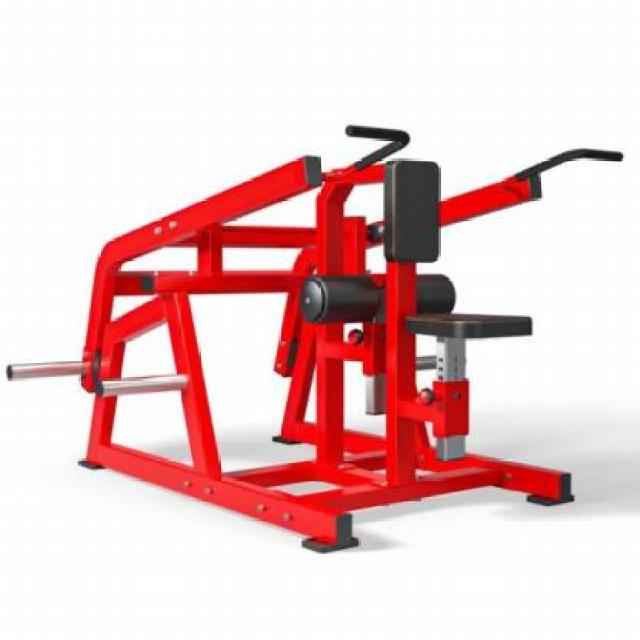seated dip machine: (9, 121, 625, 557)
